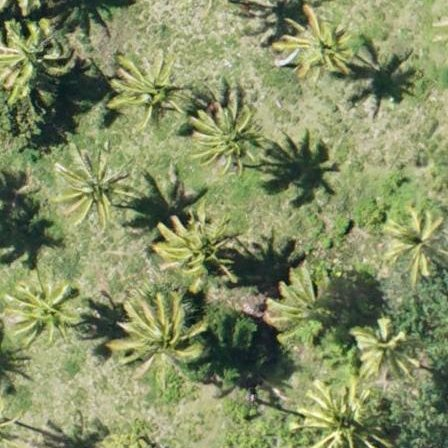palm_tree: (125, 301, 200, 381), (1, 21, 73, 95), (4, 274, 73, 347), (268, 271, 337, 343), (158, 215, 233, 281), (193, 99, 261, 170), (281, 13, 351, 75), (305, 385, 372, 448), (383, 212, 448, 275), (349, 313, 411, 378), (60, 147, 121, 213), (118, 48, 177, 111)
